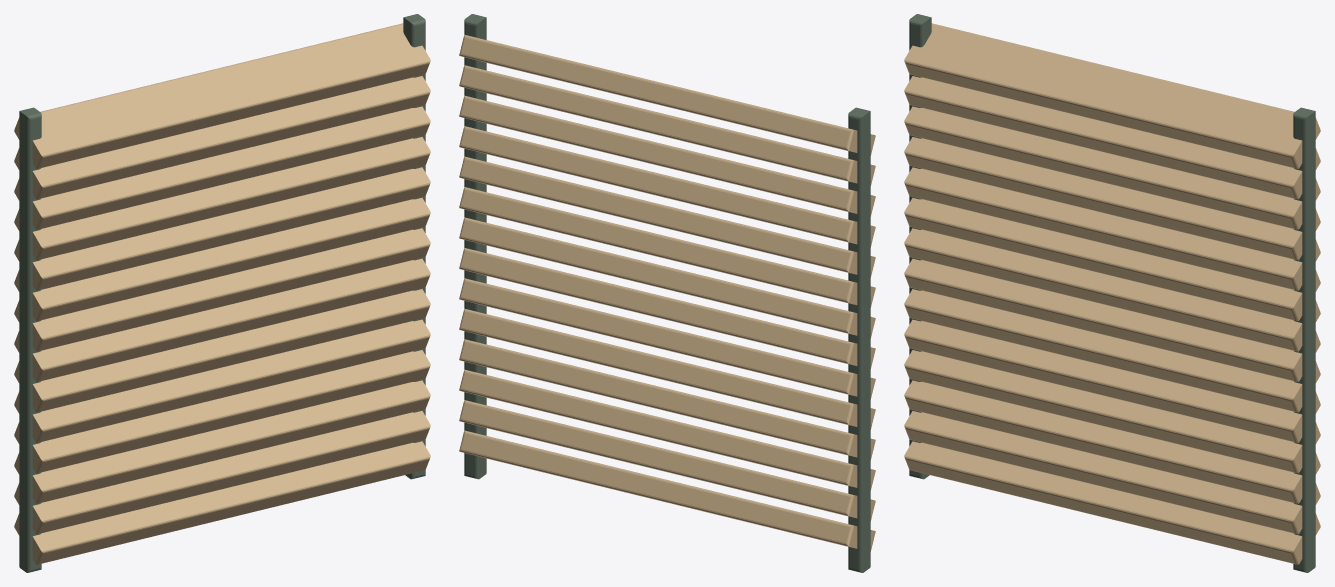
File: screen.glb
3 views of the same model, side by side, from view 1: azimuth 30°, elevation 25°; view 2: azimuth 150°, elevation 25°; view 3: azimuth 330°, elevation 25° (orthographic).
Visible parts, largest first — view 1: External louvre (×14), Screen upright (×2); view 2: External louvre (×14), Screen upright (×2); view 3: External louvre (×14), Screen upright (×2).
Boxes of the visible parts, <box> form: External louvre (×14): <box>14,23,430,564</box>; Screen upright (×2): <box>19,14,425,572</box>; External louvre (×14): <box>459,34,875,551</box>; Screen upright (×2): <box>464,14,870,572</box>; External louvre (×14): <box>904,23,1320,564</box>; Screen upright (×2): <box>909,14,1315,572</box>.
Bounding box in the file's own units: 1.37 × 1.5 × 0.1659.
